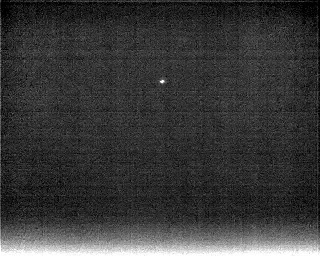AIRPLANE: (158, 77, 167, 86)
